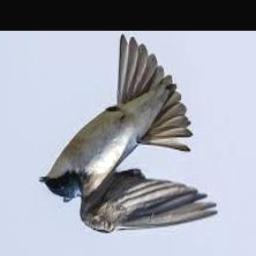Swallow: (39, 36, 218, 233)
